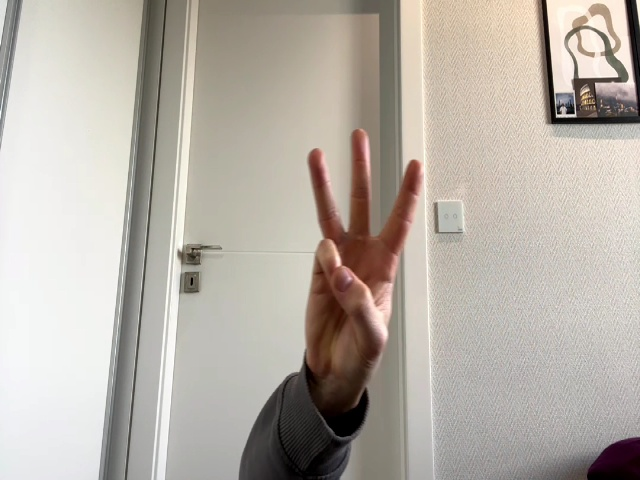W: (304, 129, 423, 371)
